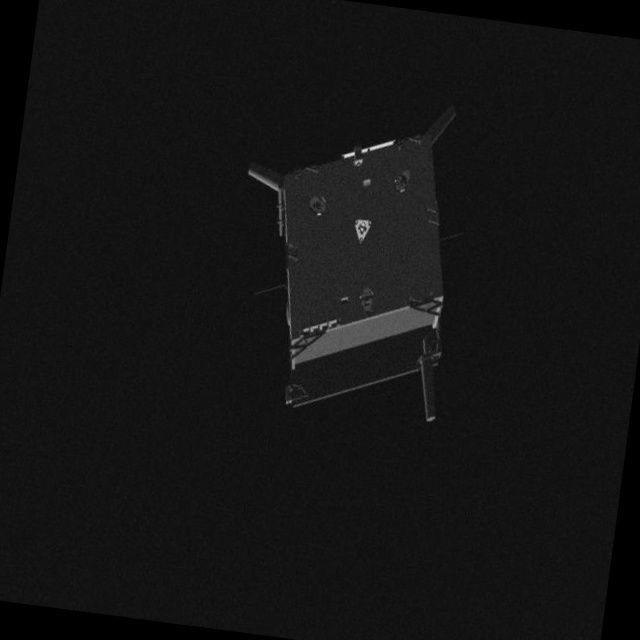satellite: (217, 72, 498, 446)
